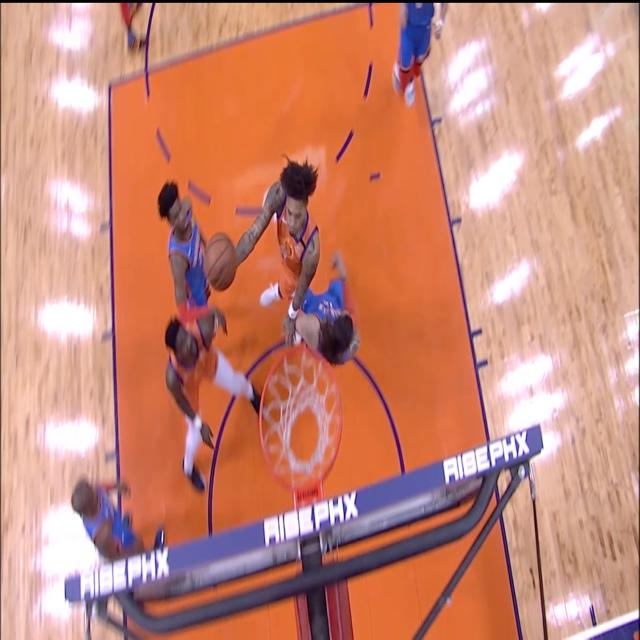Foul: (280, 235, 354, 359)
